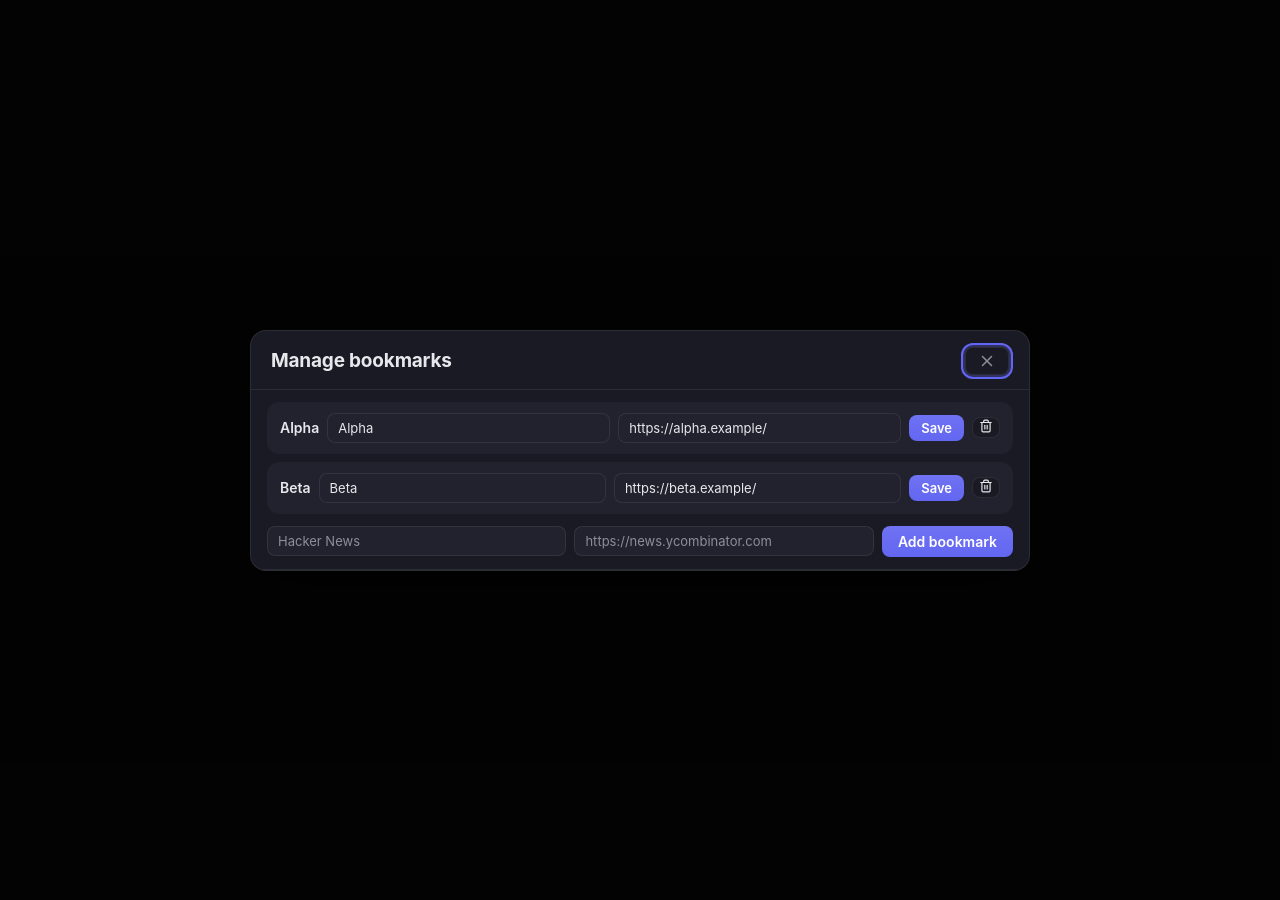
Test: FavoritesManager › reports a refused add with the core reason and KEEPS the typed draft
Type "Gamma" into the field named "new bookmark name" at (417, 541), box left=267, top=526, right=566, bottom=556
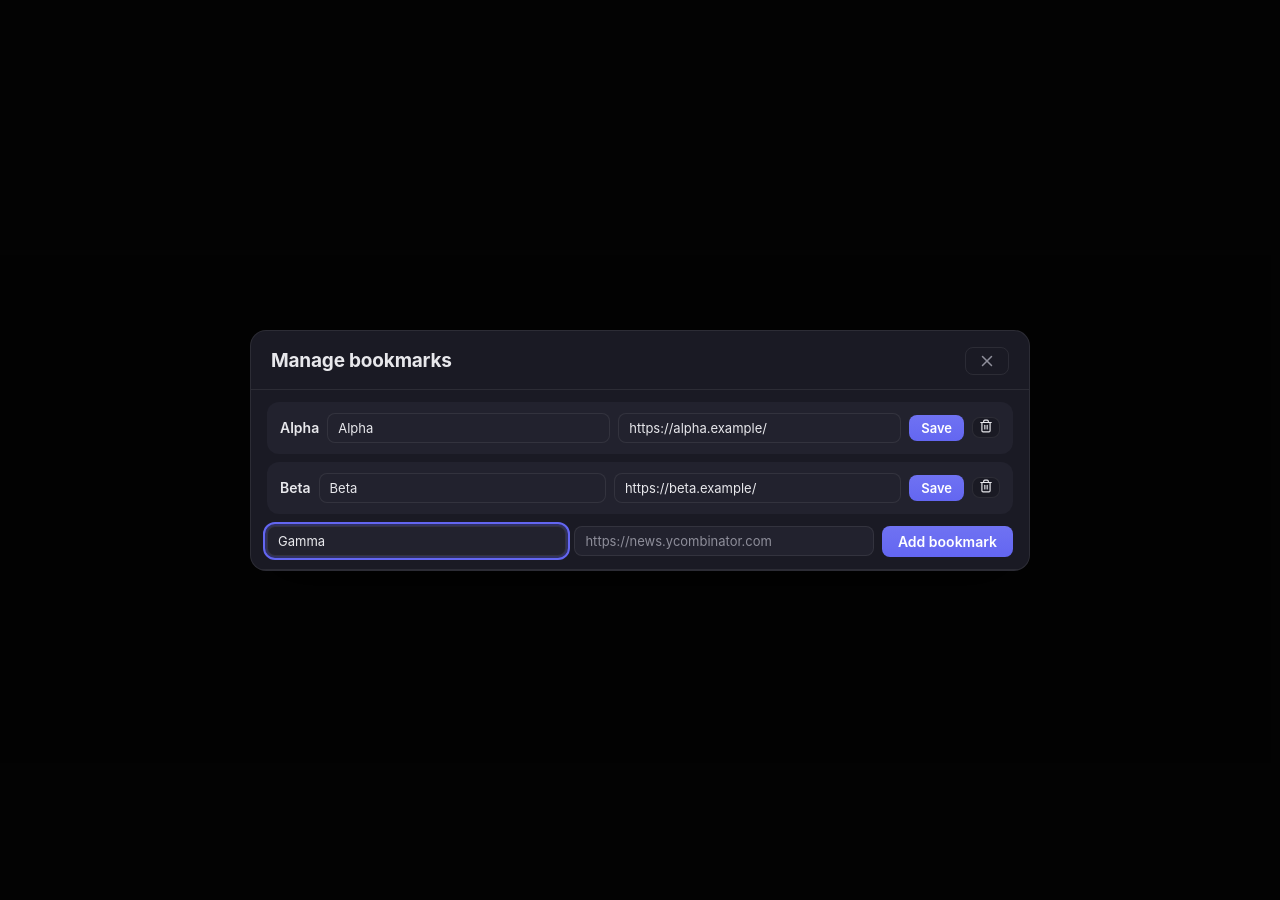
Type "https://gamma.example/page#comments" into the field named "new bookmark url" at (724, 541), box left=574, top=526, right=874, bottom=556
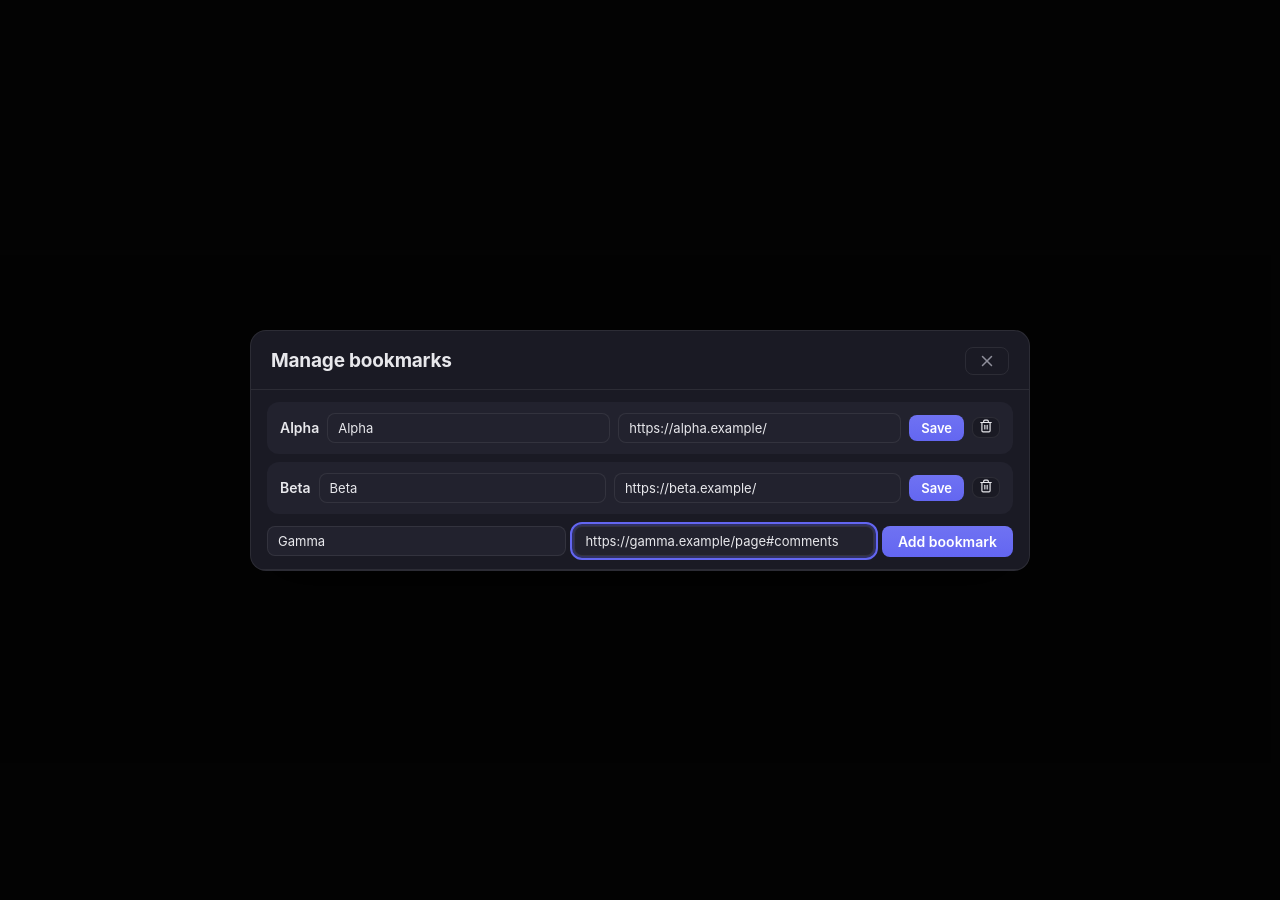
Click the button "Add bookmark" at (947, 541), box left=882, top=526, right=1013, bottom=556
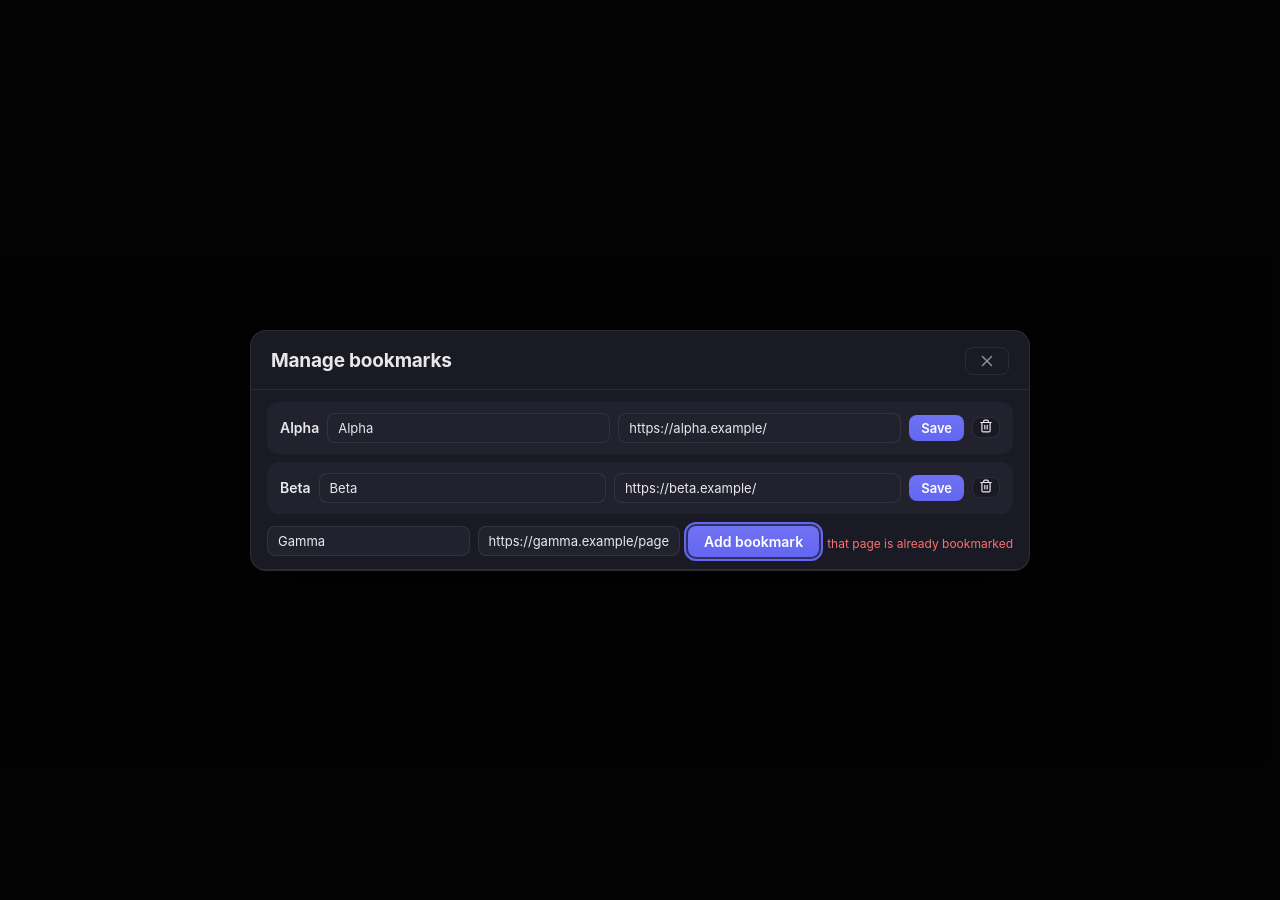
expect the message shows "already bookmarked": met, box left=827, top=536, right=1013, bottom=550
